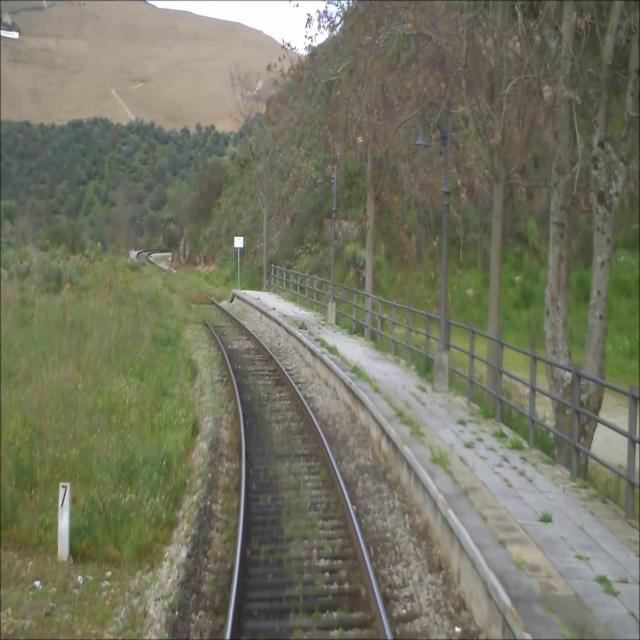rail-track: (137, 251, 388, 639)
